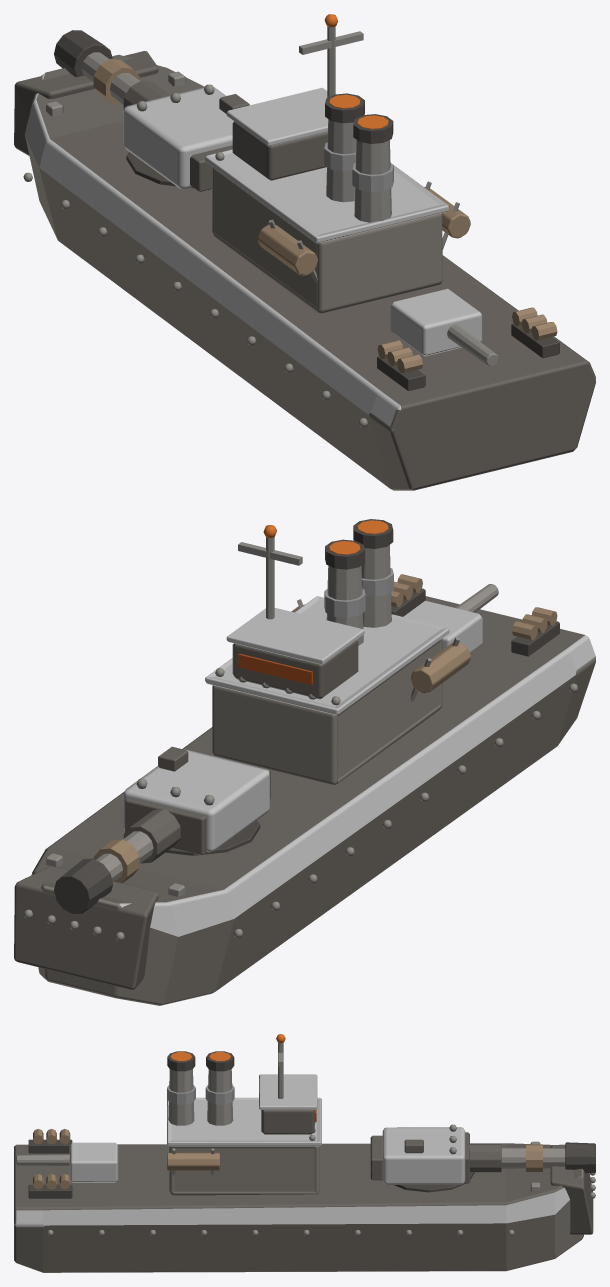
File: crucible_destroyer.glb
3 renders of one model, top to bottom at view 1: azimuth 30°, elevation 25°; view 2: azimuth 150°, elevation 25°; view 3: azimuth 270°, elevation 25°, orthographic. The views are drawn at different scales.
Visible parts, largest first — view 1: Body, Turret; view 2: Body, Turret; view 3: Body, Turret.
Boxes of the visible parts, x1,y1,x2,y2 form: Body: [14, 14, 595, 490]; Turret: [54, 30, 249, 192]; Body: [14, 519, 595, 1005]; Turret: [54, 746, 270, 914]; Body: [14, 1034, 595, 1272]; Turret: [370, 1124, 595, 1192].
Bounding box in the file's own units: 0.716 × 1.01 × 2.4.
